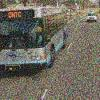buses: (0, 7, 67, 72)
